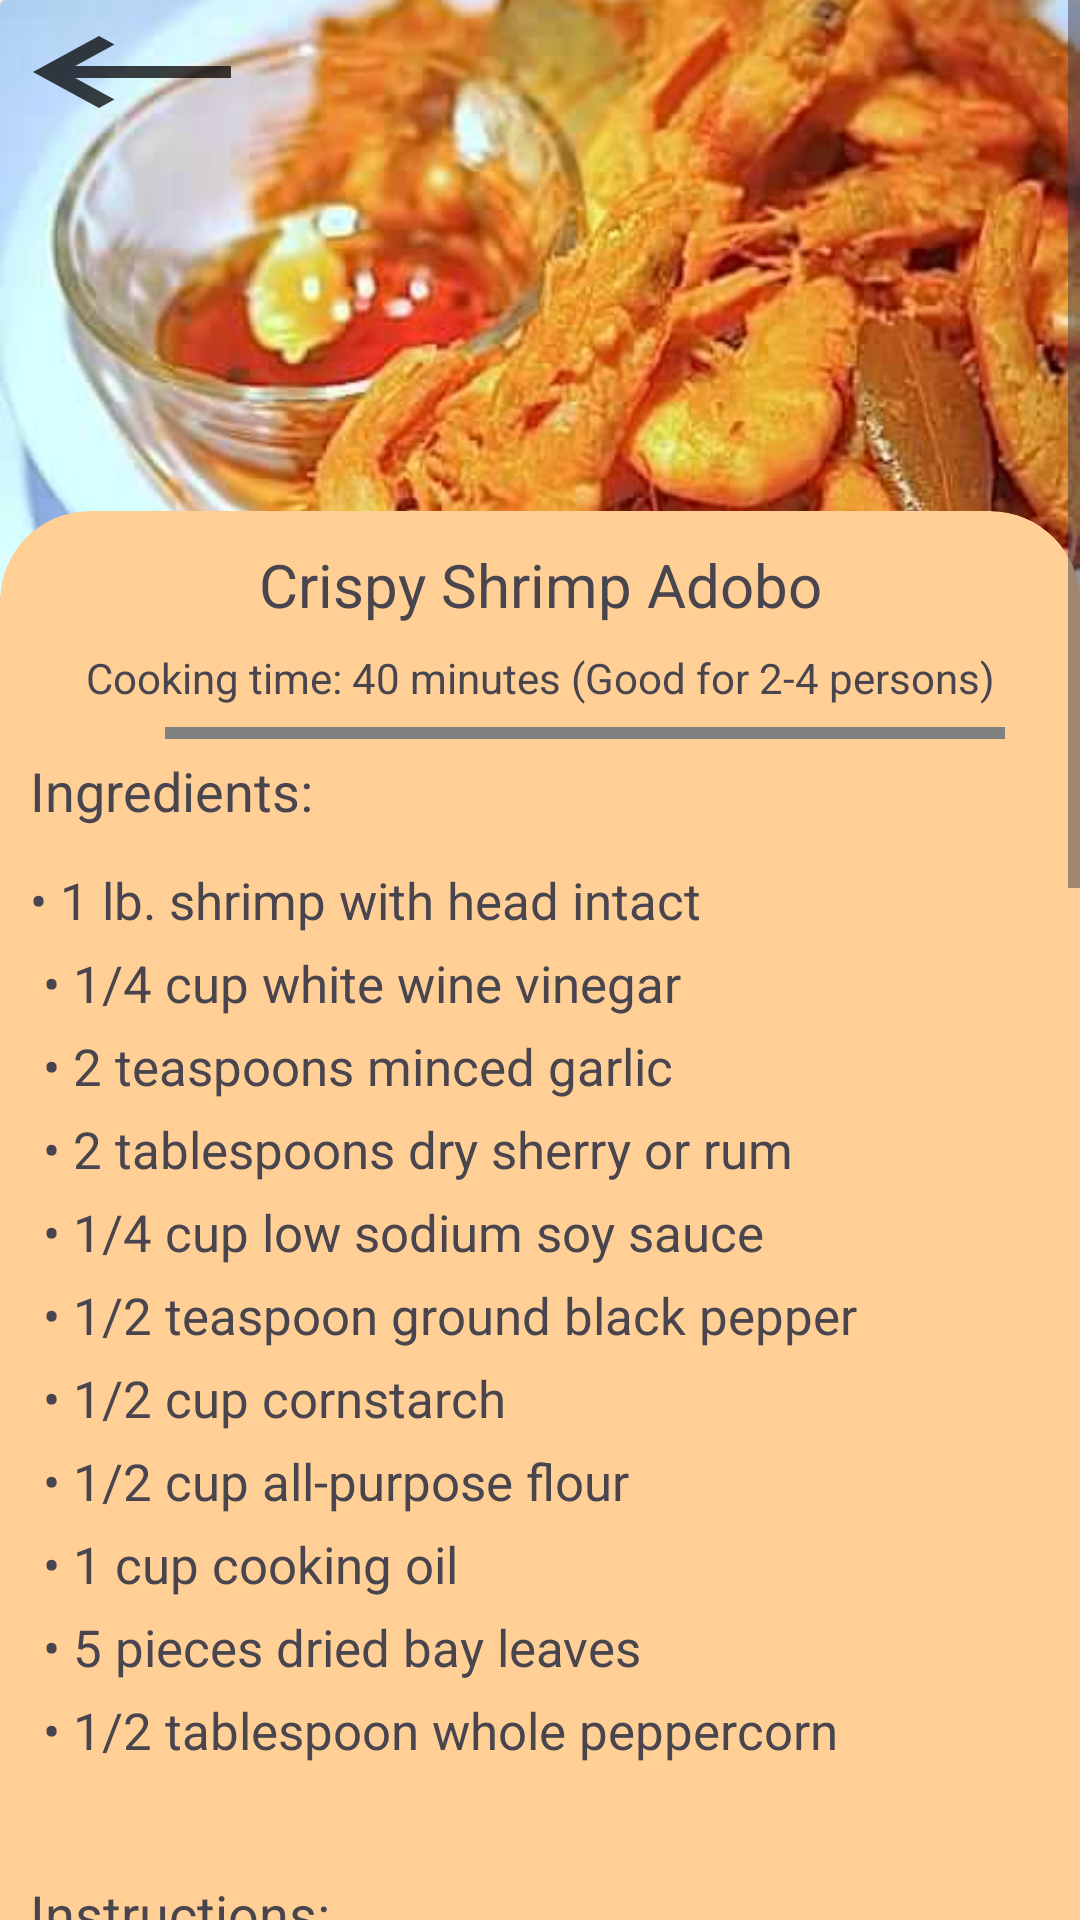

Screen size 1080x1920. Icon name, then its center in pixels as [x,y]:
keyboard backspace: [132,72]
